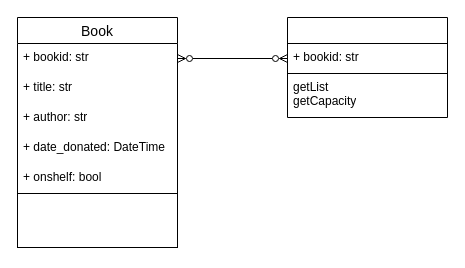
Image size: 465x268. Some labels were removed from this diagram. Here are the shapes that lost their labels. From the top down, the box of each, then its label:
(286, 16, 448, 118): Cataloge
(16, 192, 178, 248): getStatus getDays
